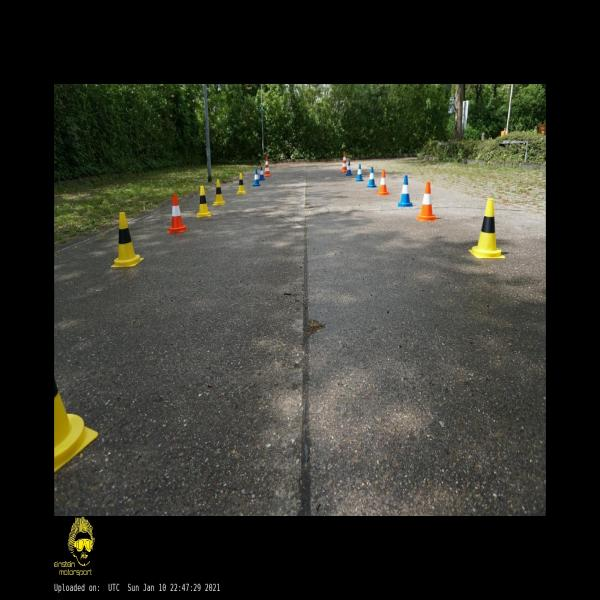blue_cone: (398, 176, 412, 206), (367, 167, 376, 188), (253, 168, 260, 186), (356, 164, 363, 181), (259, 166, 265, 181), (346, 162, 352, 176)
large_orange_cone: (263, 157, 271, 176), (341, 151, 348, 172)
orange_cone: (167, 194, 187, 232), (417, 182, 437, 220), (377, 170, 389, 195)
yellow_cone: (54, 379, 98, 472), (469, 199, 505, 258), (111, 212, 144, 266), (196, 186, 211, 218), (212, 179, 226, 205), (236, 173, 246, 194)
